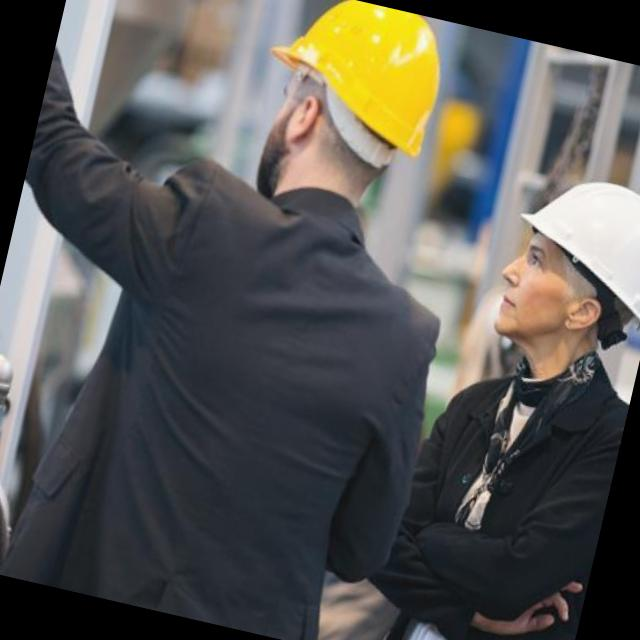helmet: (258, 0, 469, 159), (484, 163, 640, 344)
no-goggles: (502, 236, 596, 302)
no-vest: (4, 134, 467, 640), (379, 326, 635, 640)
